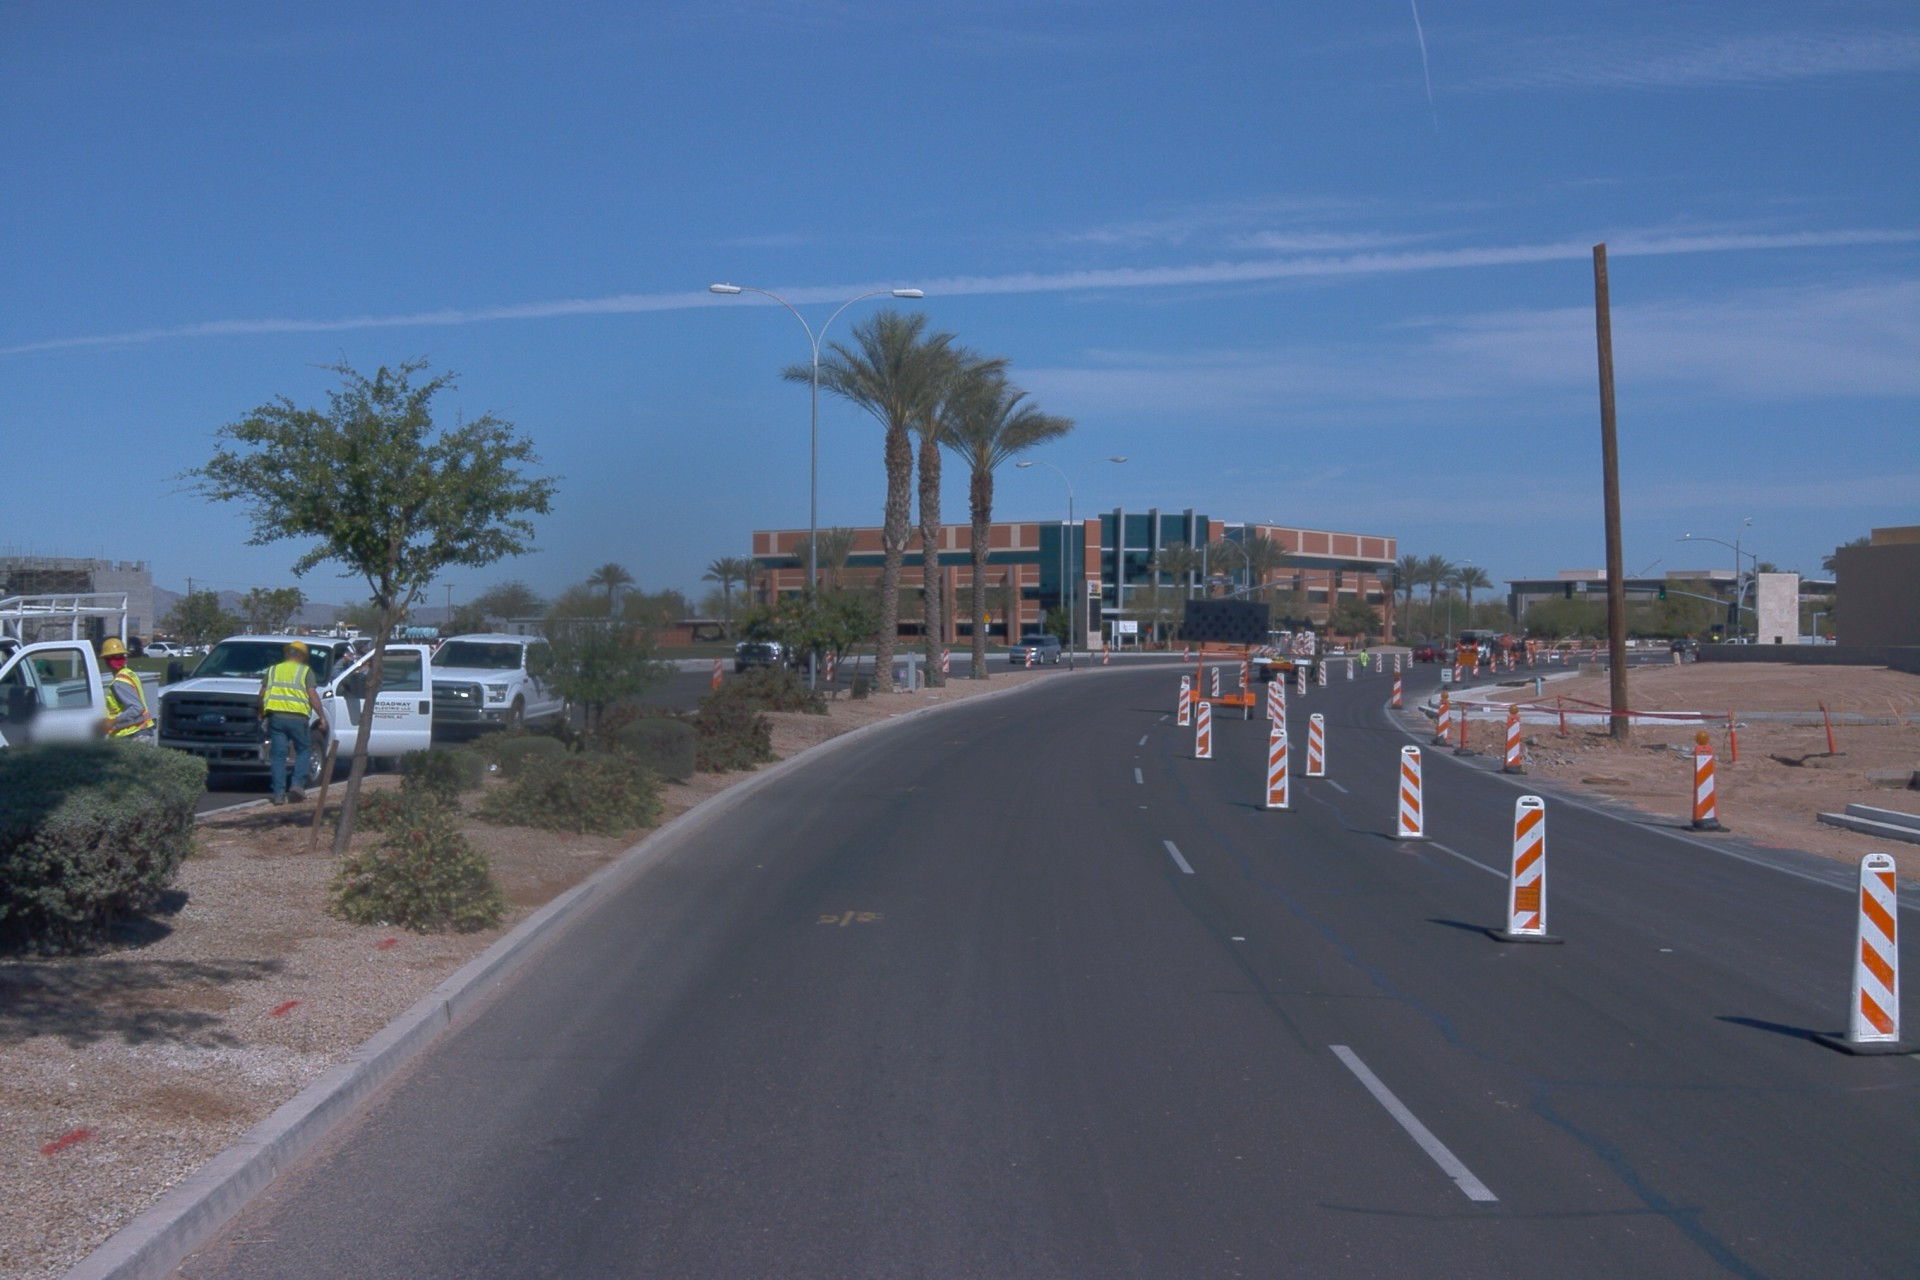TYPE_PEDESTRIAN: (257, 642, 329, 807), (90, 637, 157, 749), (1356, 647, 1371, 678)
TYPE_VEHICLE: (150, 630, 357, 796), (0, 586, 166, 755), (419, 630, 587, 743), (1176, 591, 1276, 725), (727, 596, 838, 682), (0, 633, 70, 757), (1241, 612, 1329, 685), (1454, 627, 1537, 670), (1010, 634, 1063, 667), (93, 634, 141, 662), (1408, 640, 1453, 666), (141, 641, 194, 662), (1257, 627, 1295, 646), (178, 639, 213, 657), (1725, 634, 1753, 648), (430, 634, 450, 650)
